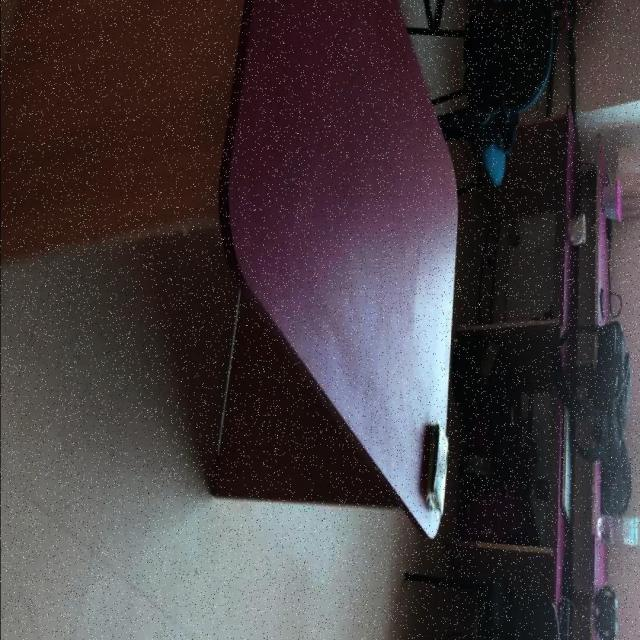Sponge: (424, 420, 450, 513), (602, 179, 622, 223)
